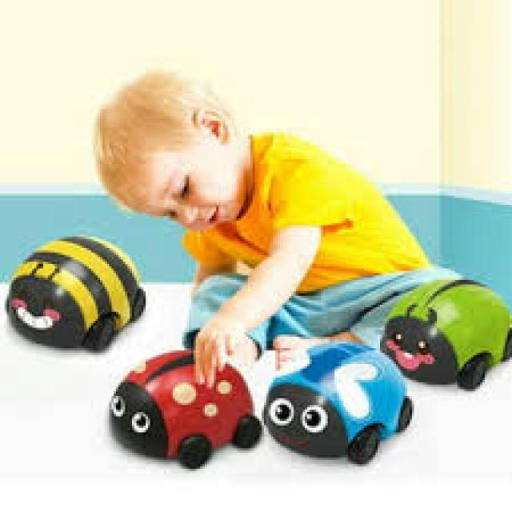baby: (93, 71, 433, 378)
